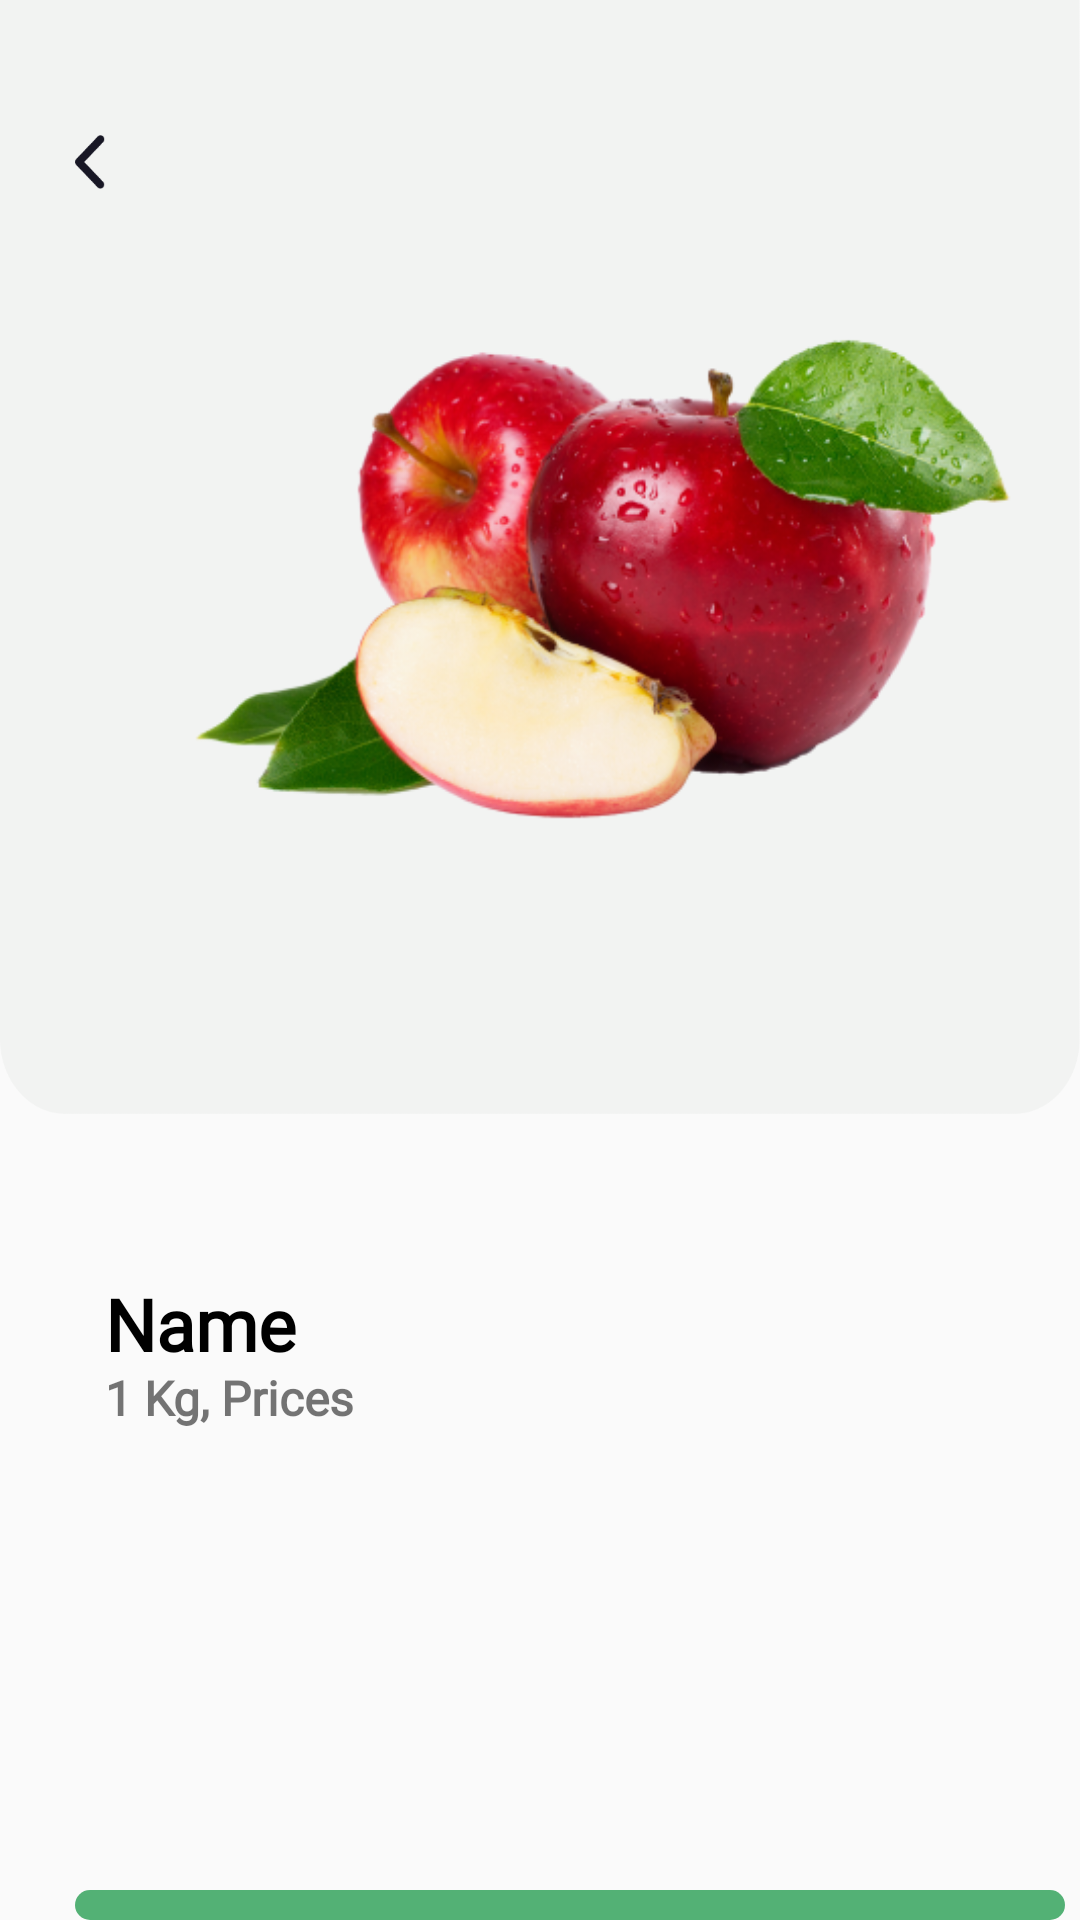

Locate icon controls on the screen. Image size 1080*1920, boxes as (x1, y1, x2, y2).
back: (75, 135, 105, 189)
